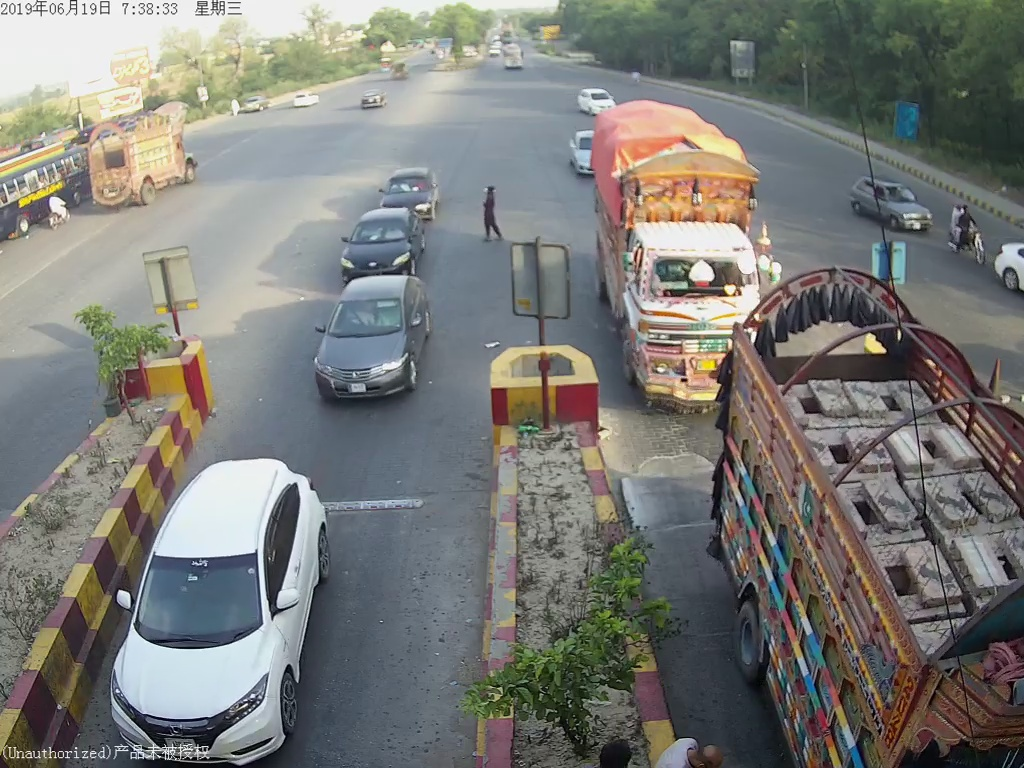Cat-1: (102, 463, 331, 765), (314, 280, 435, 398), (339, 208, 430, 281), (380, 166, 445, 222), (566, 126, 596, 181)
Cat-4: (729, 276, 1019, 768), (598, 113, 764, 403)
